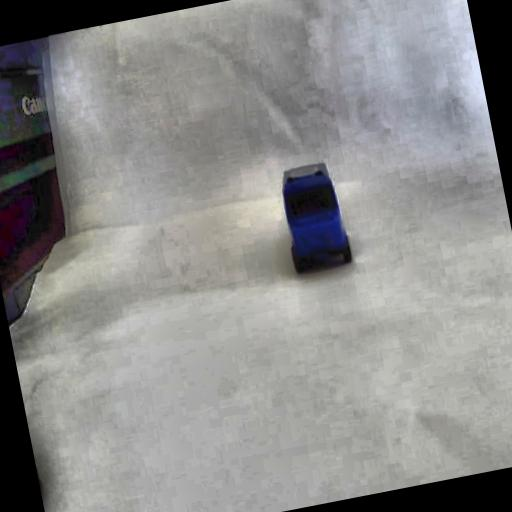police car: (274, 160, 356, 276)
